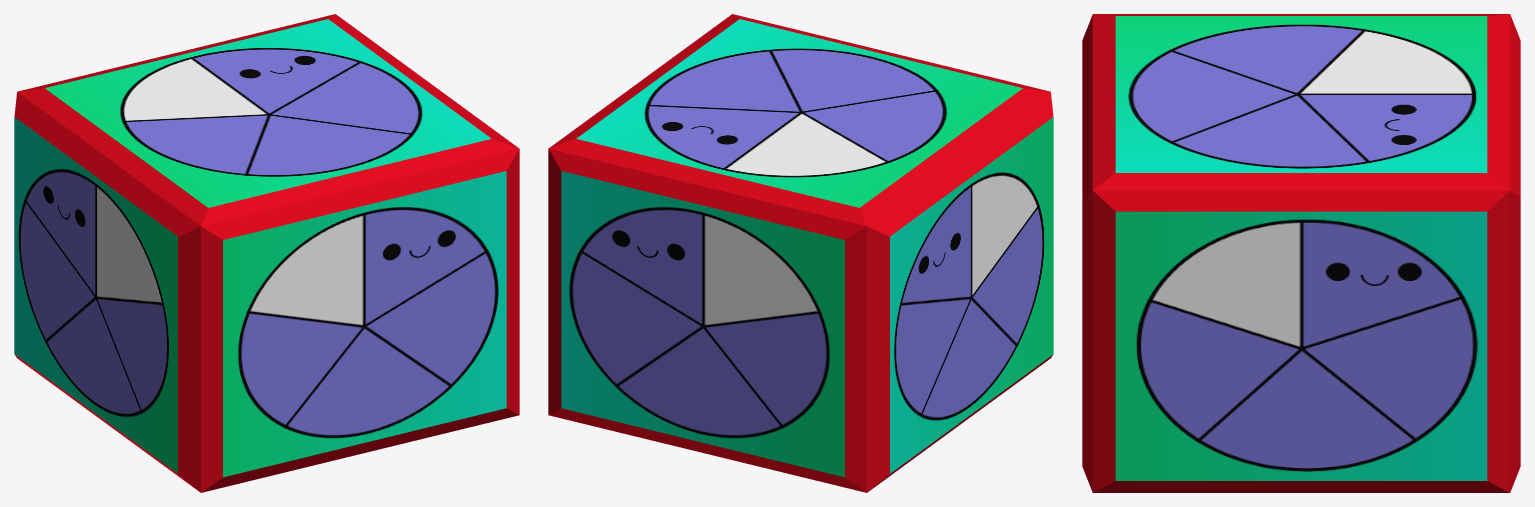
Rendered from Fracciones cuatro quintos.fbx.
3 views of the same model, side by side, from view 1: azimuth 30°, elevation 25°; view 2: azimuth 150°, elevation 25°; view 3: azimuth 270°, elevation 25° (orthographic). The views are drawn at different scales.
Visible parts, largest first — view 1: 4/5; view 2: 4/5; view 3: 4/5.
Boxes of the visible parts, bbox=[...] form: 4/5: bbox=[14, 14, 519, 492]; 4/5: bbox=[548, 14, 1053, 492]; 4/5: bbox=[1082, 14, 1520, 492].
Bounding box in the file's own units: 213 × 168 × 210.
Materials: 2 (1 with a texture image).
